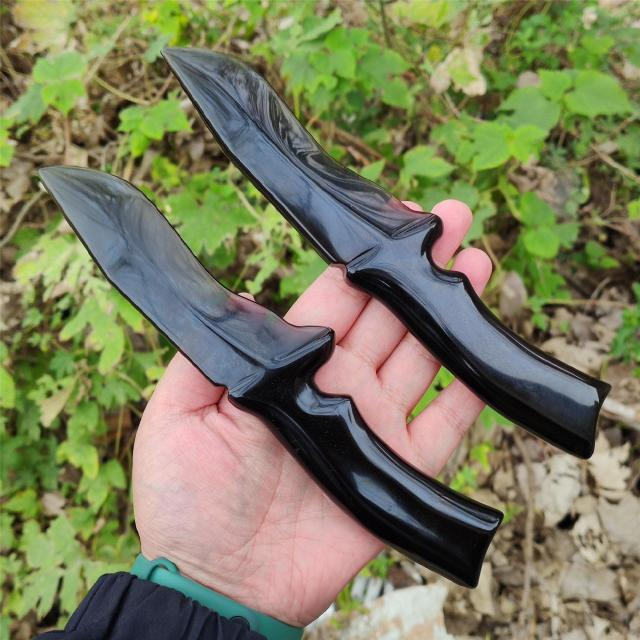weapon: (37, 146, 520, 594), (155, 40, 618, 460)
